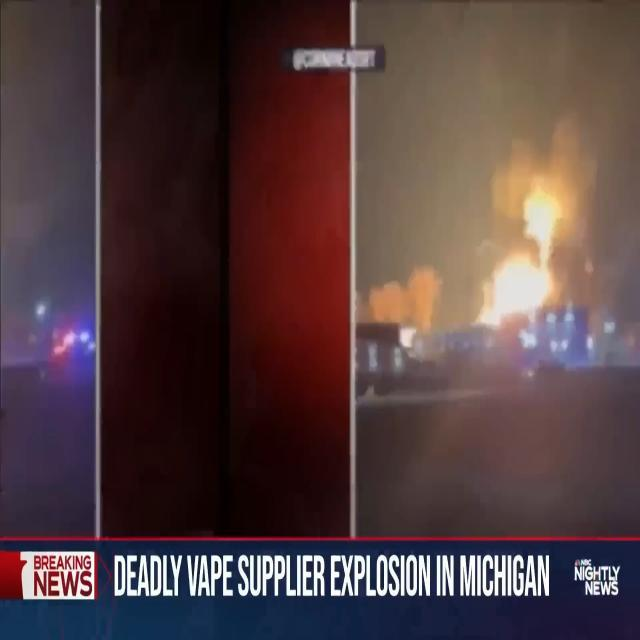fire: (484, 169, 584, 354)
